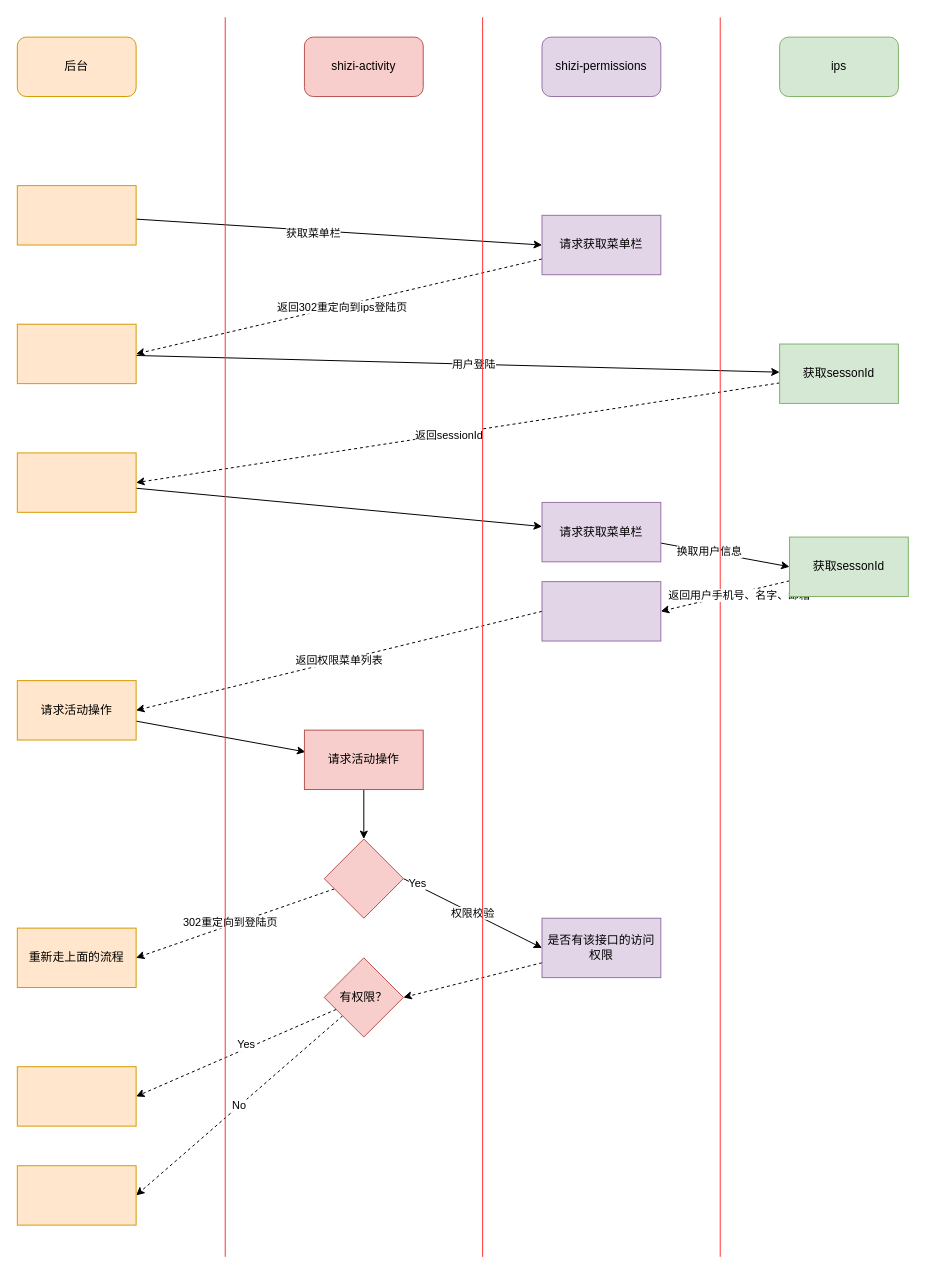
Some shapes in this 926 by 1275 pixel diagram are drawn without their labels. The shapes that lost their labels are listed below. From the top down, each one's box as (x1, y1, x2, y2) in pixels, then its label:
(16, 185, 136, 245): 进入主页面
(16, 323, 136, 384): 登陆
(16, 452, 136, 512): 重新获取菜单栏
(541, 581, 661, 641): 查询用户权益
(323, 838, 403, 918): auth中间件检查是否有sessionId
(16, 1066, 136, 1126): 正常操作
(16, 1165, 136, 1225): 展示无权限
